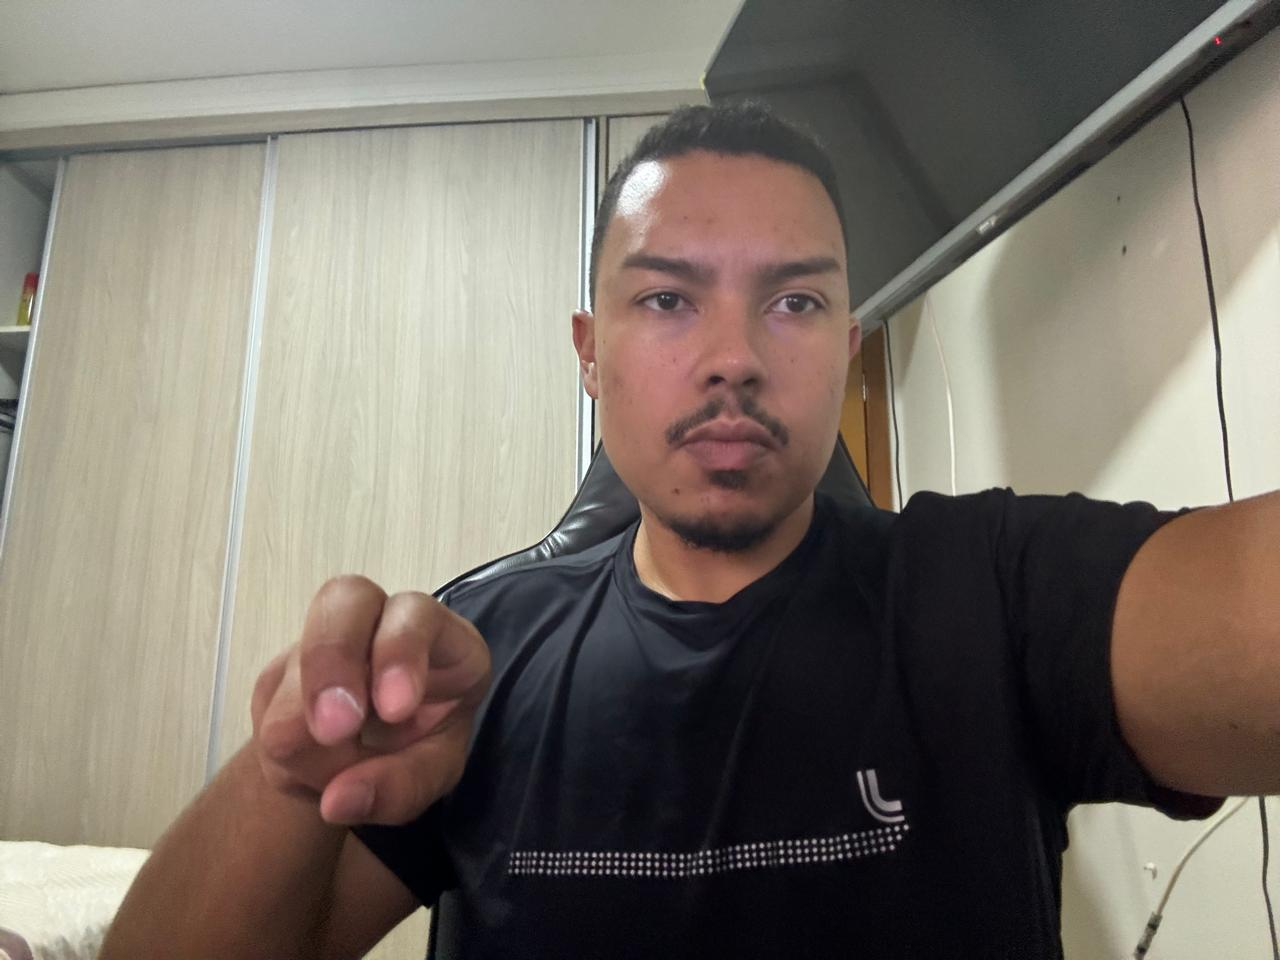n: (224, 557, 505, 856)
